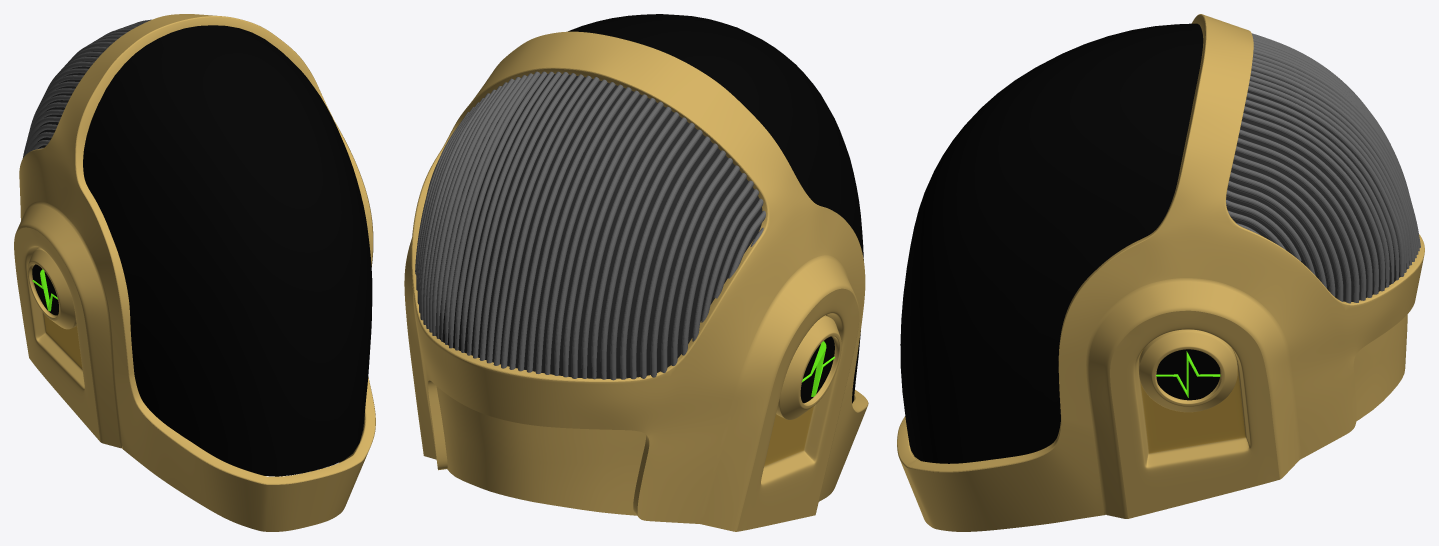
3 renders of one model, left to right at view 1: azimuth 30°, elevation 25°; view 2: azimuth 150°, elevation 25°; view 3: azimuth 270°, elevation 25°, orthographic. The views are drawn at different scales.
Parts seen in each view (by area): view 1: Sphere.001_54, Helmet_Main_56, Circle_49, Sphere.002_55, Circle.001_50; view 2: Helmet_Main_56, Sphere.002_55, Sphere.001_54, Helmet_Main.002_51, Circle_49, cables.022_21, cables.047_46, cables.045_44, cables.036_35, cables.037_36, cables.035_34, cables.034_33 (+34 smaller); view 3: Helmet_Main_56, Sphere.001_54, Sphere.002_55, Circle_49, Helmet_Main.002_51, Circle.001_50, cables.020_19, cables.024_23, cables.008_7, cables.007_6, cables.006_5, cables.005_4 (+17 smaller).
Part boxes in pixels (x1=…): Sphere.001_54: x1=83, y1=25, x2=372, y2=476; Helmet_Main_56: x1=14, y1=14, x2=375, y2=531; Circle_49: x1=27, y1=248, x2=76, y2=329; Sphere.002_55: x1=37, y1=46, x2=108, y2=148; Circle.001_50: x1=32, y1=264, x2=58, y2=315; Helmet_Main_56: x1=404, y1=31, x2=868, y2=531; Sphere.002_55: x1=435, y1=74, x2=762, y2=378; Sphere.001_54: x1=568, y1=14, x2=863, y2=403; Helmet_Main.002_51: x1=436, y1=386, x2=645, y2=515; Circle_49: x1=776, y1=315, x2=841, y2=419; cables.022_21: x1=501, y1=77, x2=599, y2=368; cables.047_46: x1=535, y1=87, x2=631, y2=373; cables.045_44: x1=571, y1=101, x2=663, y2=378; cables.036_35: x1=527, y1=84, x2=623, y2=372; cables.037_36: x1=509, y1=79, x2=607, y2=369; cables.035_34: x1=545, y1=90, x2=639, y2=374; cables.034_33: x1=563, y1=98, x2=655, y2=377; Helmet_Main_56: x1=897, y1=14, x2=1424, y2=531; Sphere.001_54: x1=900, y1=23, x2=1203, y2=463; Sphere.002_55: x1=1226, y1=70, x2=1409, y2=301; Circle_49: x1=1138, y1=329, x2=1237, y2=412; Helmet_Main.002_51: x1=1353, y1=314, x2=1407, y2=421; Circle.001_50: x1=1156, y1=349, x2=1220, y2=400; cables.020_19: x1=1248, y1=86, x2=1404, y2=276; cables.024_23: x1=1242, y1=113, x2=1385, y2=291; cables.008_7: x1=1246, y1=92, x2=1399, y2=280; cables.007_6: x1=1244, y1=106, x2=1389, y2=287; cables.006_5: x1=1240, y1=121, x2=1378, y2=294; cables.005_4: x1=1237, y1=138, x2=1366, y2=300.
Size of the model in its own units: 0.4519 by 0.59 by 0.5936.
